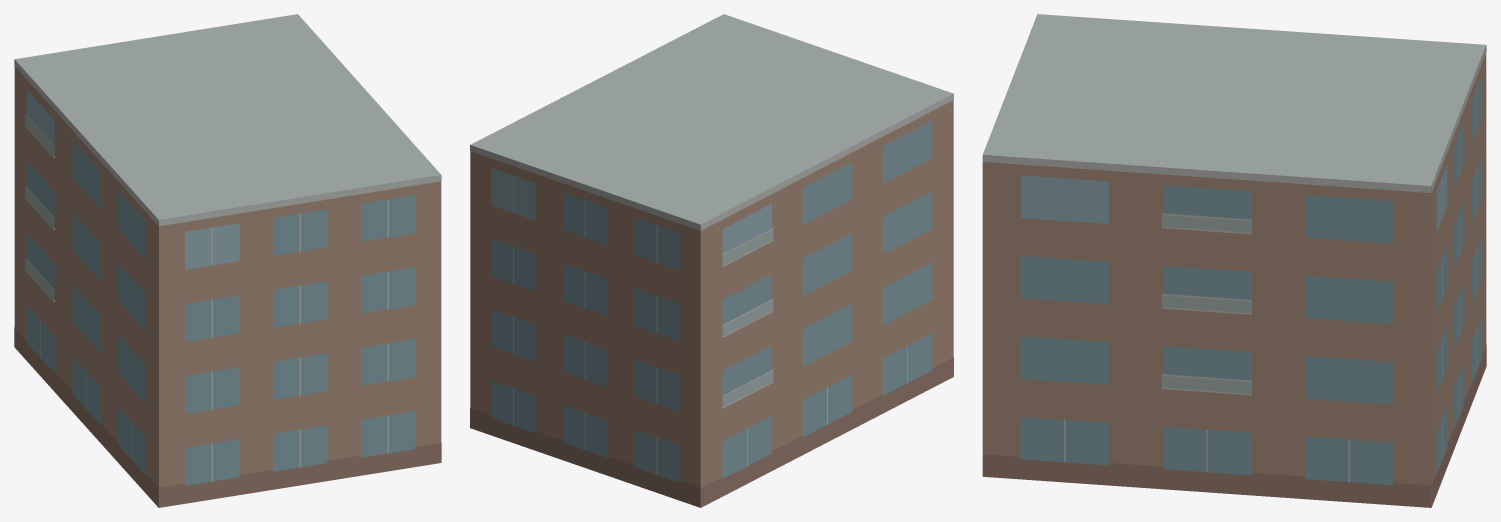
The model's file is survey-upis-32971335.glb.
The picture shows the model from 3 angles, left to right: view 1: azimuth 30°, elevation 25°; view 2: azimuth 150°, elevation 25°; view 3: azimuth 270°, elevation 25°; orthographic projection. The views are drawn at different scales.
Visible parts, largest first — view 1: survey-upis-32971335.tmp; view 2: survey-upis-32971335.tmp; view 3: survey-upis-32971335.tmp.
Part boxes in pixels (box(x1,y1,x2,y2)): survey-upis-32971335.tmp: box(14, 14, 441, 507); survey-upis-32971335.tmp: box(470, 14, 953, 507); survey-upis-32971335.tmp: box(982, 14, 1486, 507).
Bounding box in the file's own units: 12.67 × 11.04 × 15.67.
